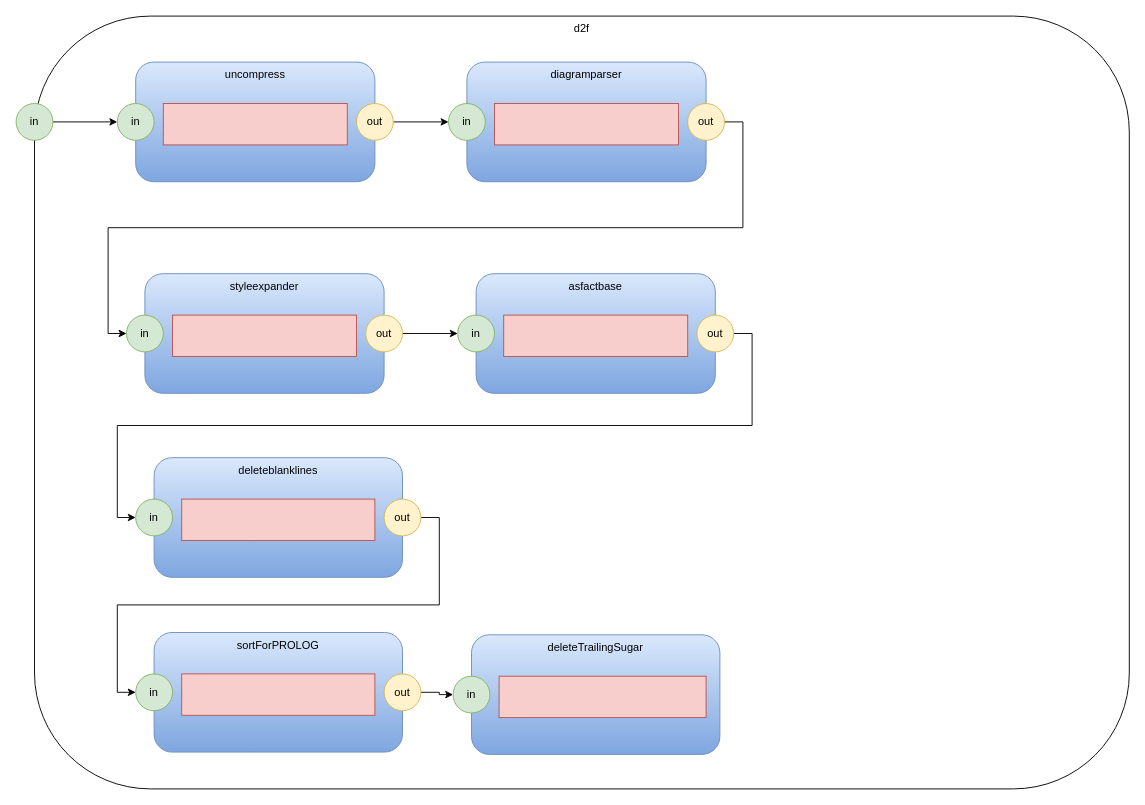
The diagram is 1145 pixels wide and 805 high, and some of its shapes have lost their labels. The centre of each missing label's shape, as x and y in pixels:
var u = uncompress (message.in); this.send ("out", u);: point 254,124
var x = asfactbase (message.in); this.send ("out", x);: point 595,335
var x = deleteblanklines (message.in); this.send ("out", x);: point 278,519
var x = deleteTrailingSugart (message.in); this.send ("out", x);: point 602,696
var x = diagramparser (message.in); this.send ("out", x);: point 586,124
var x = sortForPROLOG (message.in); this.send ("out", x);: point 278,694
var x = stylexpander (message.in); this.send ("out", x);: point 264,335
